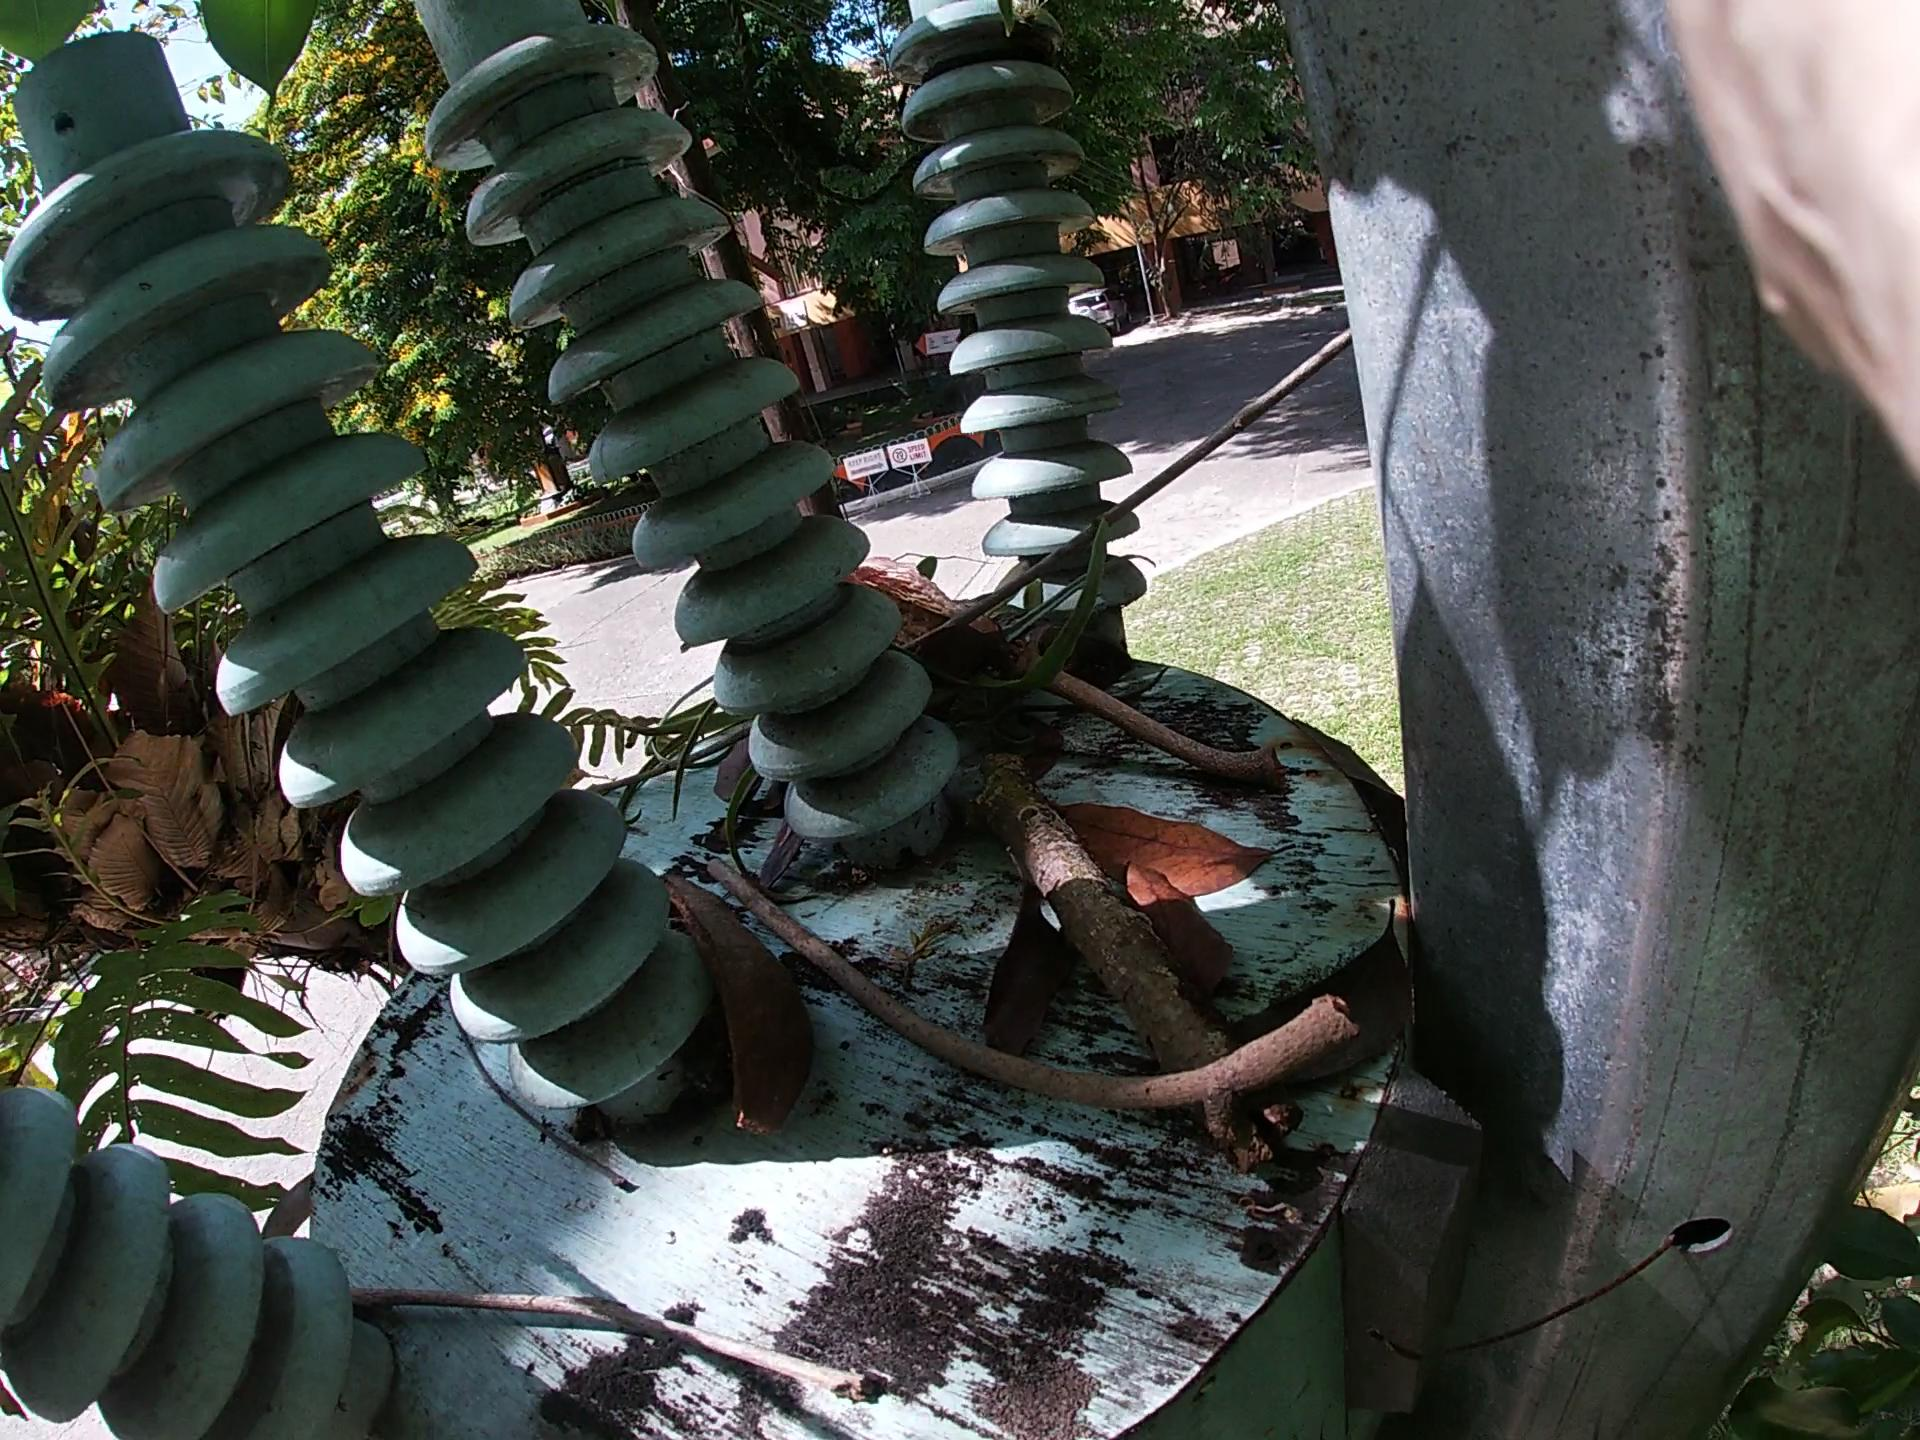branch with leaves: (857, 529, 1274, 1150)
tree branch: (810, 260, 1439, 740), (736, 914, 1358, 1177), (408, 1227, 1125, 1384), (1019, 622, 1423, 883), (980, 782, 1234, 1057)
